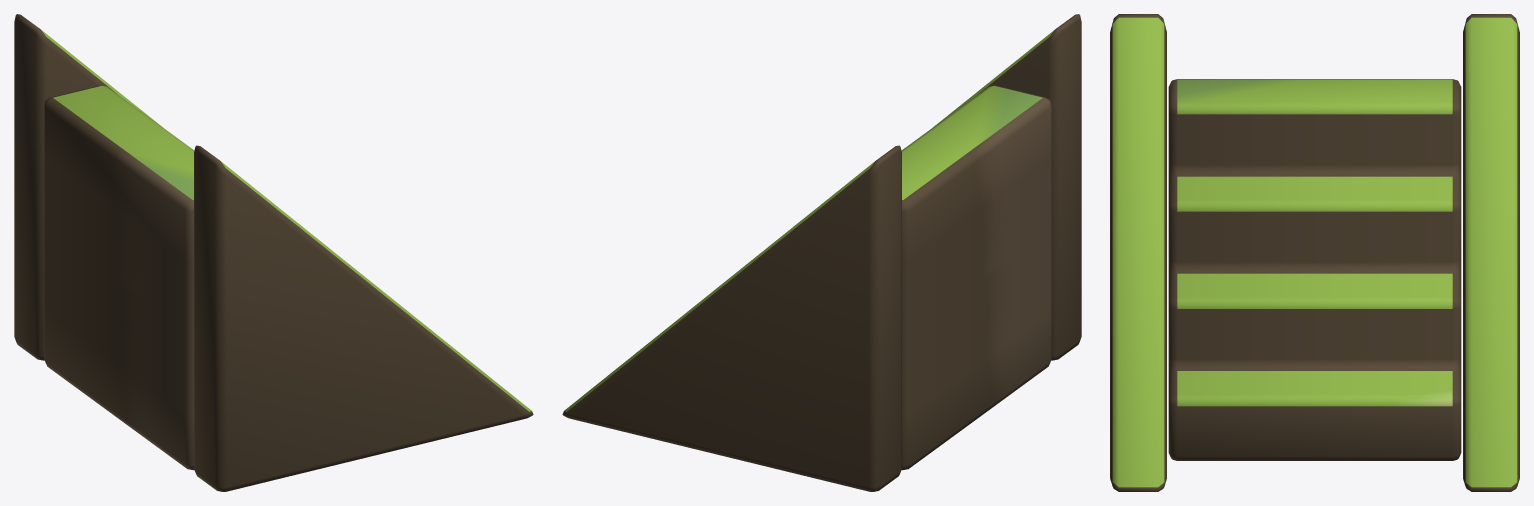
Rendered from Stairs (4).obj.
3 views of the same model, side by side, from view 1: azimuth 30°, elevation 25°; view 2: azimuth 150°, elevation 25°; view 3: azimuth 270°, elevation 25° (orthographic).
Visible parts, largest first — view 1: Stairs (4); view 2: Stairs (4); view 3: Stairs (4).
Boxes of the visible parts, x1=… form: Stairs (4): x1=14, y1=14, x2=533, y2=491; Stairs (4): x1=562, y1=14, x2=1081, y2=491; Stairs (4): x1=1110, y1=14, x2=1519, y2=491.
Bounding box in the file's own units: 1.24 × 1.23 × 1.4.
Materials: 1 (1 with a texture image).
